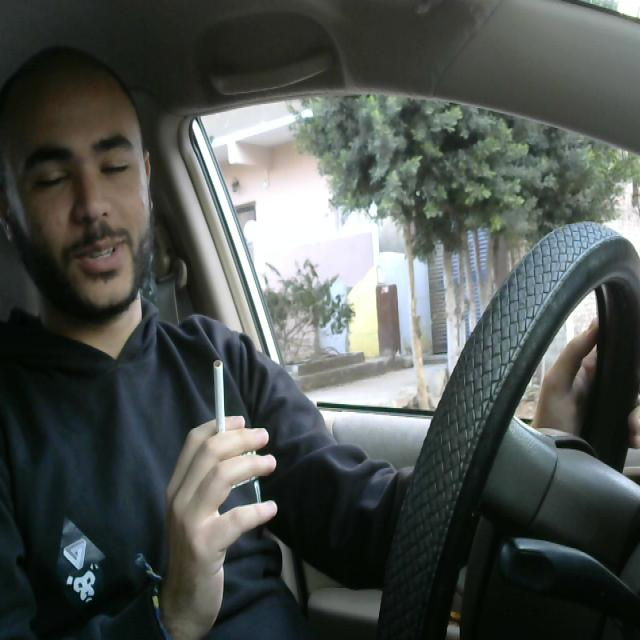smoking: (207, 356, 230, 471)
